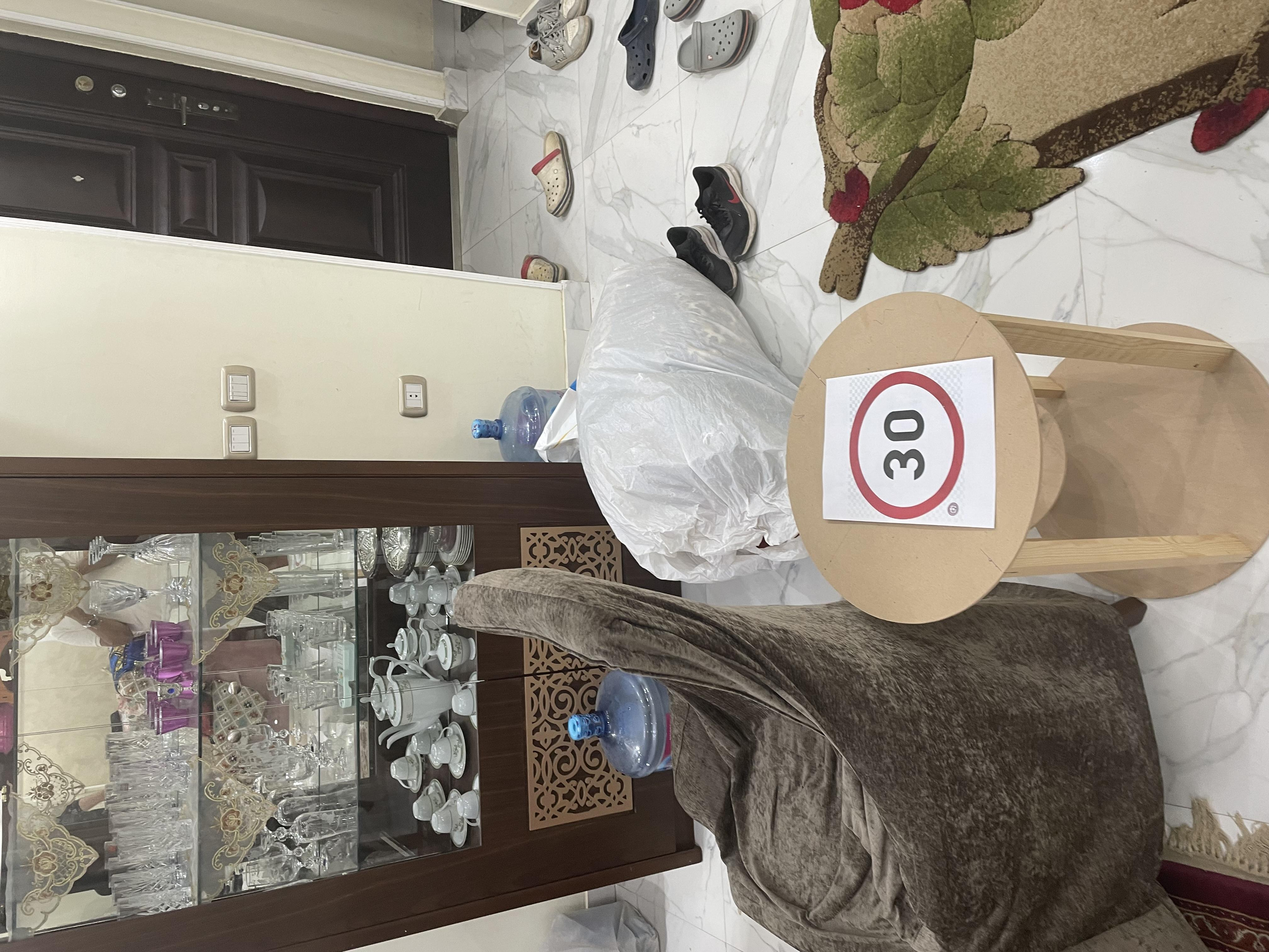30-speed: (576, 631, 781, 723)
